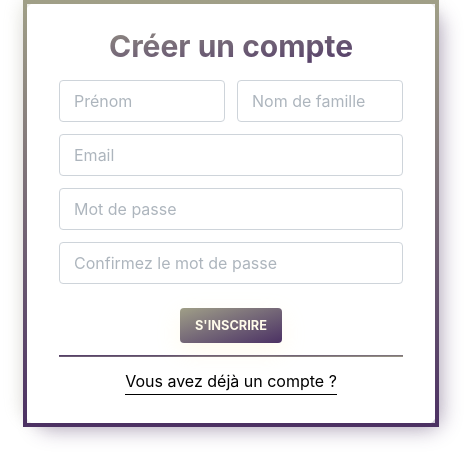
Test: RegisterForm › makes the user wait before asking for a new code, and keeps the form when going back
Type "Sara" into the field with placeholder "Prénom" at (142, 101), box [59,80,225,122]
Type "Testeur" into the field with placeholder "Nom de famille" at (320, 101), box [237,80,403,122]
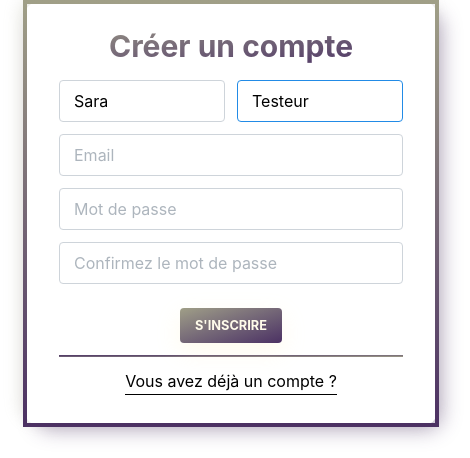
Type "sara@exemple.fr" into the field with placeholder "Email" at (231, 155), box [59,134,403,176]
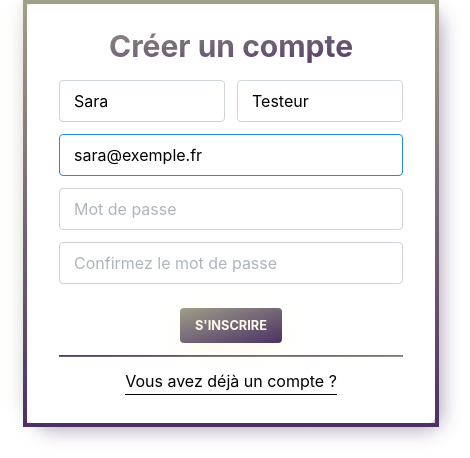
Type "Sagesse2025!" into the password field with placeholder "Mot de passe" at (231, 209), box [59,188,403,230]
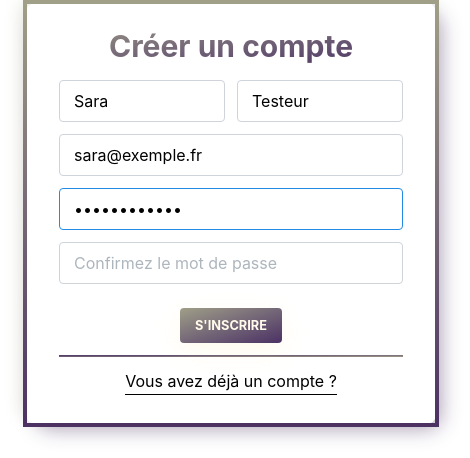
Type "Sagesse2025!" into the password field with placeholder "Confirmez le mot de passe" at (231, 263), box [59,242,403,284]
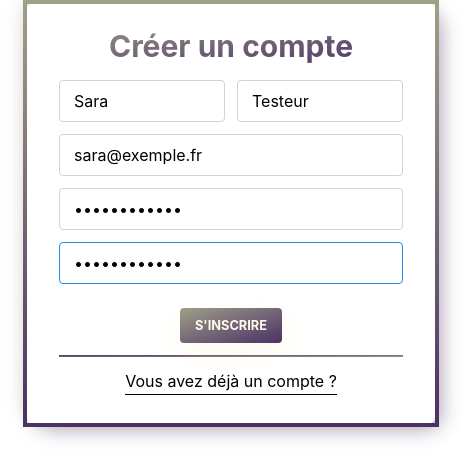
Click the button "S'inscrire" at (231, 326), box [180,308,282,343]
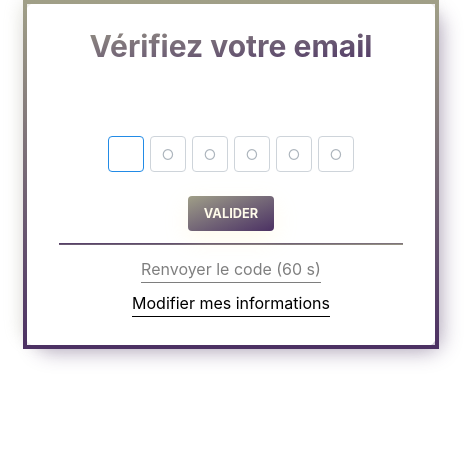
Expected: the heading "Vérifiez votre email" is shown, [59,20,403,64]
Expected: the button "Renvoyer le code (60 s)" is disabled, [141,257,321,283]
Click the button "Modifier mes informations" at (231, 304), box [132,291,330,317]
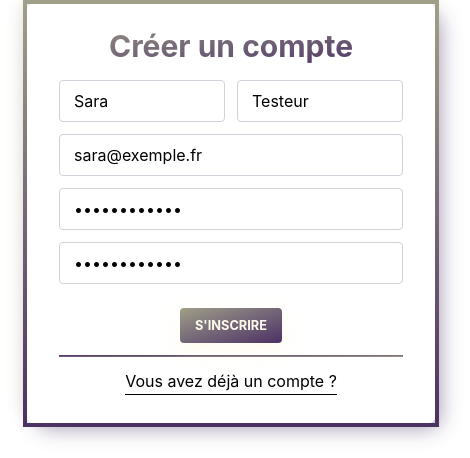
Expected: the 3rd field with placeholder "Email" holds "sara@exemple.fr", [59,134,403,176]
